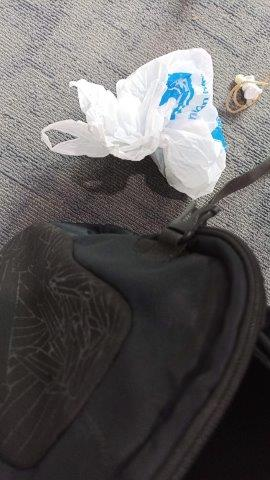plastik: (42, 50, 225, 197)
